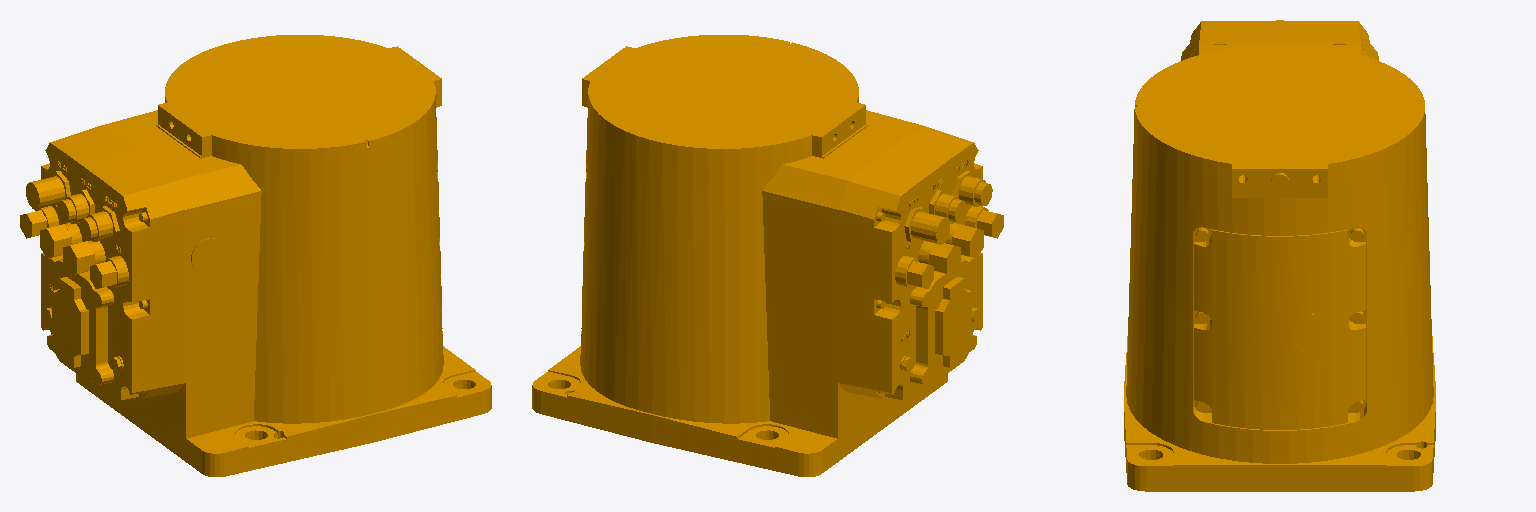
robot.urdf — IRB920_6kg_650_180_STD:
<?xml version="1.0"?>
<robot name="IRB920_6kg_650_180_STD">

<link name="base_link">
  <inertial>
    <origin xyz="-0.02500708496170239 4.832861134834105e-06 0.0942820642453871" rpy="0 0 0"/>
    <mass value="41.12591553669811"/>
    <inertia ixx="0.182723" iyy="0.263418" izz="0.209732" ixy="5.3e-05" iyz="2e-06" ixz="0.005906"/>
  </inertial>
  <visual>
    <origin xyz="0 0 0" rpy="0 0 0"/>
    <geometry>
      <mesh filename="meshes/base_link.stl" scale="0.001 0.001 0.001"/>
    </geometry>
  </visual>
  <collision>
    <origin xyz="0 0 0" rpy="0 0 0"/>
    <geometry>
      <mesh filename="meshes/base_link.stl" scale="0.001 0.001 0.001"/>
    </geometry>
  </collision>
</link>

<link name="link_1">
  <inertial>
    <origin xyz="0.17258528277481563 4.324208514675313e-06 0.04683297673687792" rpy="0 0 0"/>
    <mass value="40.4824375073"/>
    <inertia ixx="0.086331" iyy="0.913744" izz="0.966259" ixy="2.3e-05" iyz="1e-05" ixz="-0.029501"/>
  </inertial>
  <visual>
    <origin xyz="0.00025 -2e-06 -0.1914" rpy="0 0 0"/>
    <geometry>
      <mesh filename="meshes/link_1.stl" scale="0.001 0.001 0.001"/>
    </geometry>
  </visual>
  <collision>
    <origin xyz="0.00025 -2e-06 -0.1914" rpy="0 0 0"/>
    <geometry>
      <mesh filename="meshes/link_1.stl" scale="0.001 0.001 0.001"/>
    </geometry>
  </collision>
</link>

<link name="link_2">
  <inertial>
    <origin xyz="0.09786963144856903 2.835673922048506e-06 0.08518137848367535" rpy="0 0 0"/>
    <mass value="75.77408460831636"/>
    <inertia ixx="0.309324" iyy="1.206998" izz="1.132456" ixy="1.3e-05" iyz="1.8e-05" ixz="0.072377"/>
  </inertial>
  <visual>
    <origin xyz="-0.391498 -0.0 -0.2785" rpy="0 0 0"/>
    <geometry>
      <mesh filename="meshes/link_2.stl" scale="0.001 0.001 0.001"/>
    </geometry>
  </visual>
  <collision>
    <origin xyz="-0.391498 -0.0 -0.2785" rpy="0 0 0"/>
    <geometry>
      <mesh filename="meshes/link_2.stl" scale="0.001 0.001 0.001"/>
    </geometry>
  </collision>
</link>

<link name="link_3">
  <inertial>
    <origin xyz="-7.554934788145395e-05 -7.45327058237817e-05 -0.17600468195116148" rpy="0 0 0"/>
    <mass value="0.6594614836495672"/>
    <inertia ixx="0.011651" iyy="0.011651" izz="7.7e-05" ixy="1e-06" iyz="-0.0" ixz="1e-06"/>
  </inertial>
  <visual>
    <origin xyz="-0.65 0.0 -0.5835" rpy="0 0 0"/>
    <geometry>
      <mesh filename="meshes/link_3.stl" scale="0.001 0.001 0.001"/>
    </geometry>
  </visual>
  <collision>
    <origin xyz="-0.65 0.0 -0.5835" rpy="0 0 0"/>
    <geometry>
      <mesh filename="meshes/link_3.stl" scale="0.001 0.001 0.001"/>
    </geometry>
  </collision>
</link>

<joint name="joint_1" type="revolute">
  <origin xyz="-0.00025 2e-06 0.1914" rpy="0 0 0"/>
  <parent link="base_link"/>
  <child link="link_1"/>
  <axis xyz="0.0 0.0 1.0"/>
  <limit lower="-2.61799" upper="2.61799" effort="0.0" velocity="0.0"/>
</joint>

<joint name="joint_2" type="revolute">
  <origin xyz="0.391748 -2e-06 0.0871" rpy="0 0 0"/>
  <parent link="link_1"/>
  <child link="link_2"/>
  <axis xyz="0.0 0.0 1.0"/>
  <limit lower="-2.53073" upper="2.53073" effort="0.0" velocity="0.0"/>
</joint>

<joint name="joint_3" type="prismatic">
  <origin xyz="0.258502 -0.0 0.305" rpy="0 0 0"/>
  <parent link="link_2"/>
  <child link="link_3"/>
  <axis xyz="0.0 0.0 1.0"/>
  <limit lower="0.0" upper="0.145" effort="0.0" velocity="0.0"/>
</joint>

<joint name="joint_4" type="revolute">
  <origin xyz="0 0 0" rpy="0 0 0"/>
  <parent link="link_3"/>
  <child link="flange"/>
  <axis xyz="0.0 0.0 1.0"/>
  <limit lower="-6.98132" upper="6.98132" effort="0.0" velocity="0.0"/>
</joint>

<link name="flange">
  <inertial>
    <origin xyz="0 0 0" rpy="0 0 0"/>
    <mass value="0.1"/>
    <inertia ixx="0.0001" iyy="0.0001" izz="0.0001" ixy="0" iyz="0" ixz="0"/>
  </inertial>
</link>

<link name="tool0">
  <inertial>
    <origin xyz="0 0 0" rpy="0 0 0"/>
    <mass value="0.01"/>
    <inertia ixx="0.00001" iyy="0.00001" izz="0.00001" ixy="0" iyz="0" ixz="0"/>
  </inertial>
</link>

<joint name="joint_tool0" type="fixed">
  <origin xyz="0 0 0" rpy="0 0 0"/>
  <parent link="flange"/>
  <child link="tool0"/>
</joint>

</robot>

--- Render facts (derived) ---
The picture shows the robot from 3 angles, left to right: view 1: azimuth 30°, elevation 25°; view 2: azimuth 150°, elevation 25°; view 3: azimuth 270°, elevation 25°; orthographic projection.
Robot: IRB920_6kg_650_180_STD — 6 links, 5 joints (3 revolute, 1 prismatic, 1 fixed); root link base_link; default pose: all joints at 0.
Visible links, largest first — view 1: base_link; view 2: base_link; view 3: base_link.
Link boxes in pixels (left/top/right/bottom): base_link: left=20, top=35, right=491, bottom=476; base_link: left=532, top=35, right=1003, bottom=476; base_link: left=1124, top=20, right=1435, bottom=491.
Size in the robot's own frame: 0.249 by 0.17 by 0.1914 metres.
Meshes: 4 distinct files referenced, 1 mesh visuals loaded (1 binary STL); not drawn: 3 (reference not matched to a file when rendering).